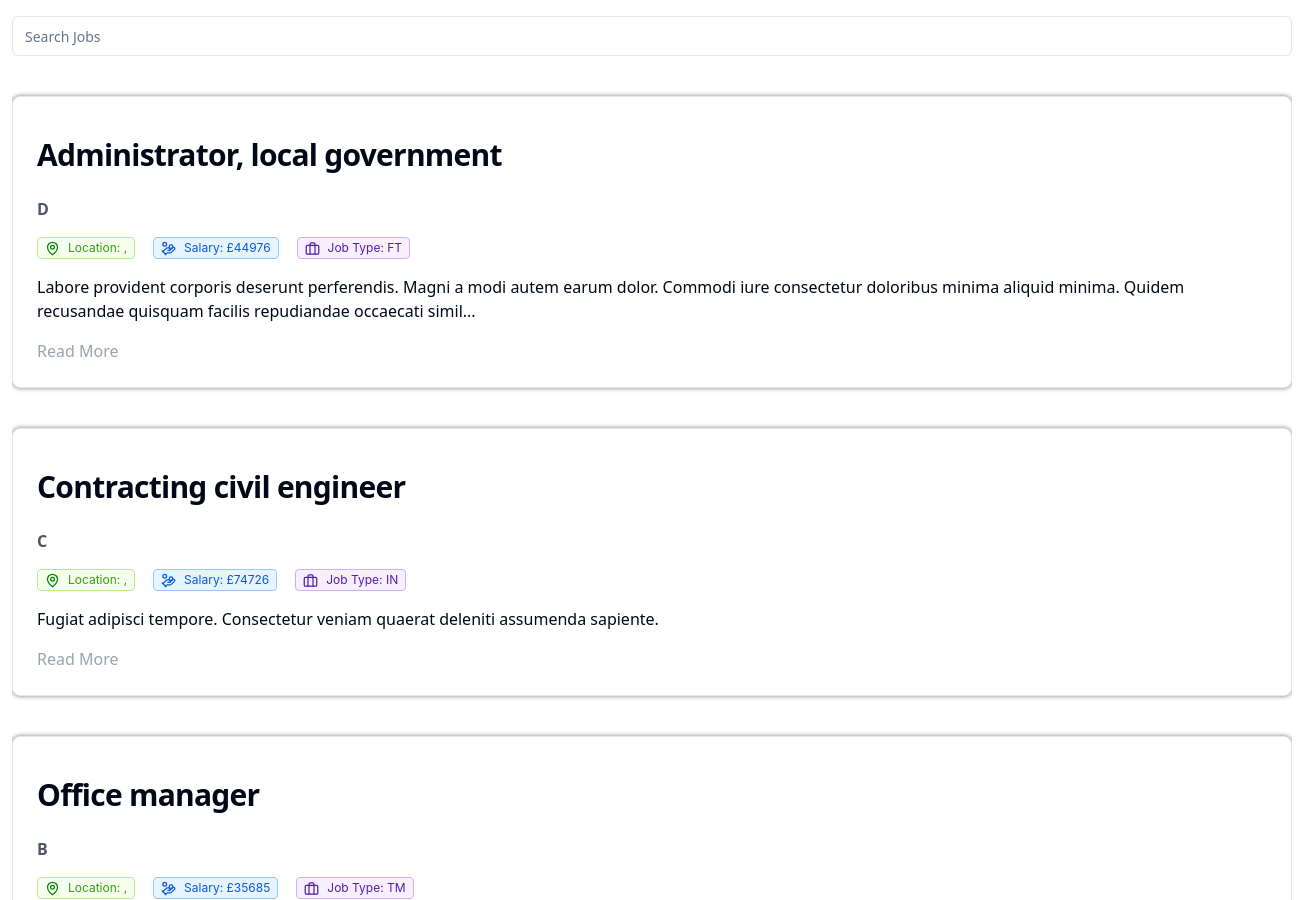
Test: JobList component › searched jobs appear correctly based on description
The image size is (1304, 900).
Step 1. Type "Adignissimos. Maiores" into the field with placeholder "Search Jobs" → (652, 36), box [12,16,1292,56]
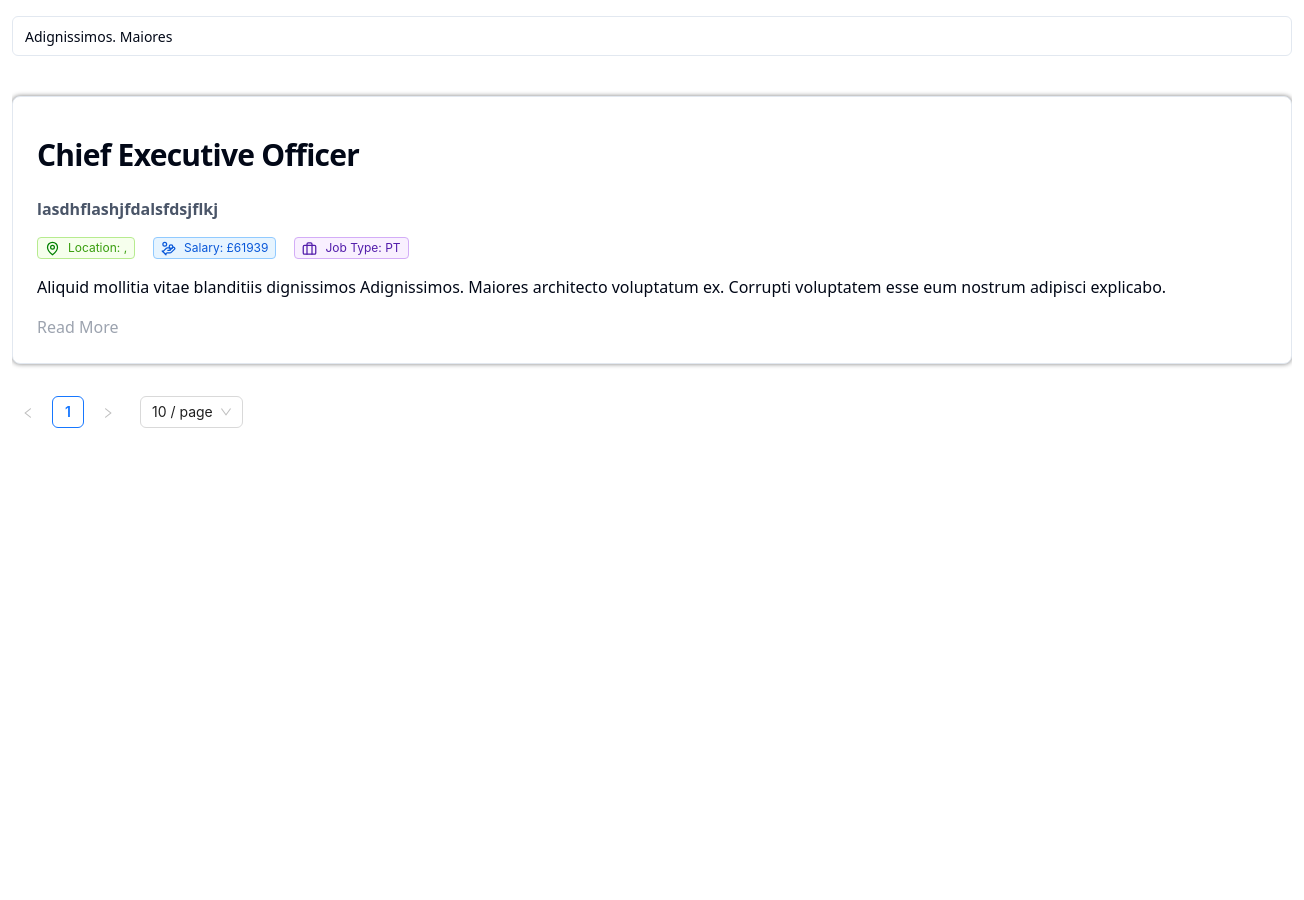
Expected: the text "Aliquid mollitia vitae blanditiis dignissimos Adignissimos. Maiores architecto voluptatum ex. Corrupti voluptatem esse e" is shown, [37,276,1166,298]
Expected: the number of lists is 2, [12,96,1292,364]; [12,396,243,428]
